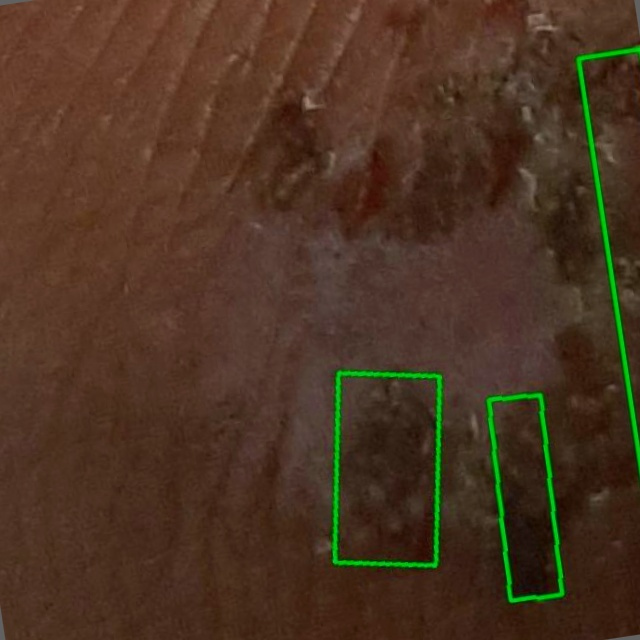Contact Dermatitis: (335, 374, 440, 565), (488, 395, 563, 601)
